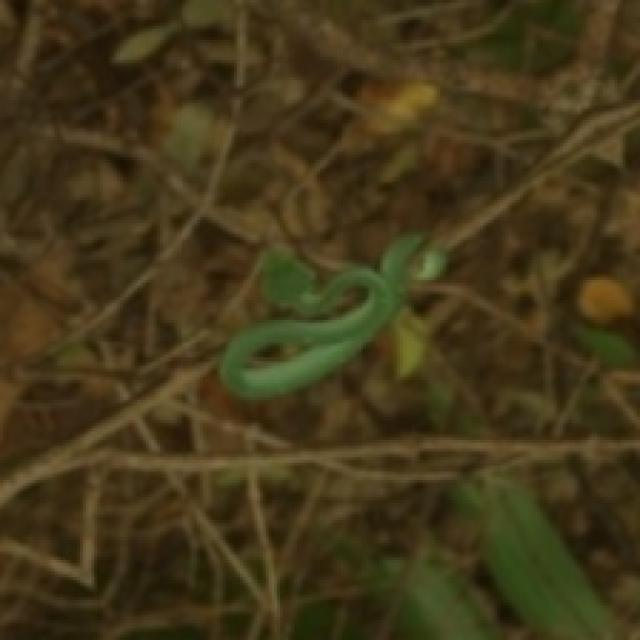north ph temple pitviper: (220, 234, 443, 397)
